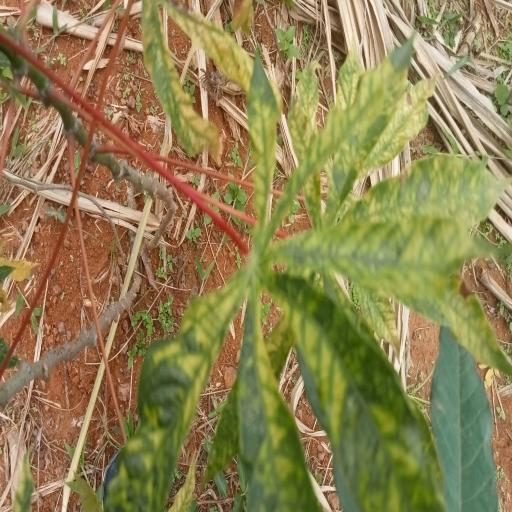Cassava_Mosaic: (101, 38, 512, 512)
